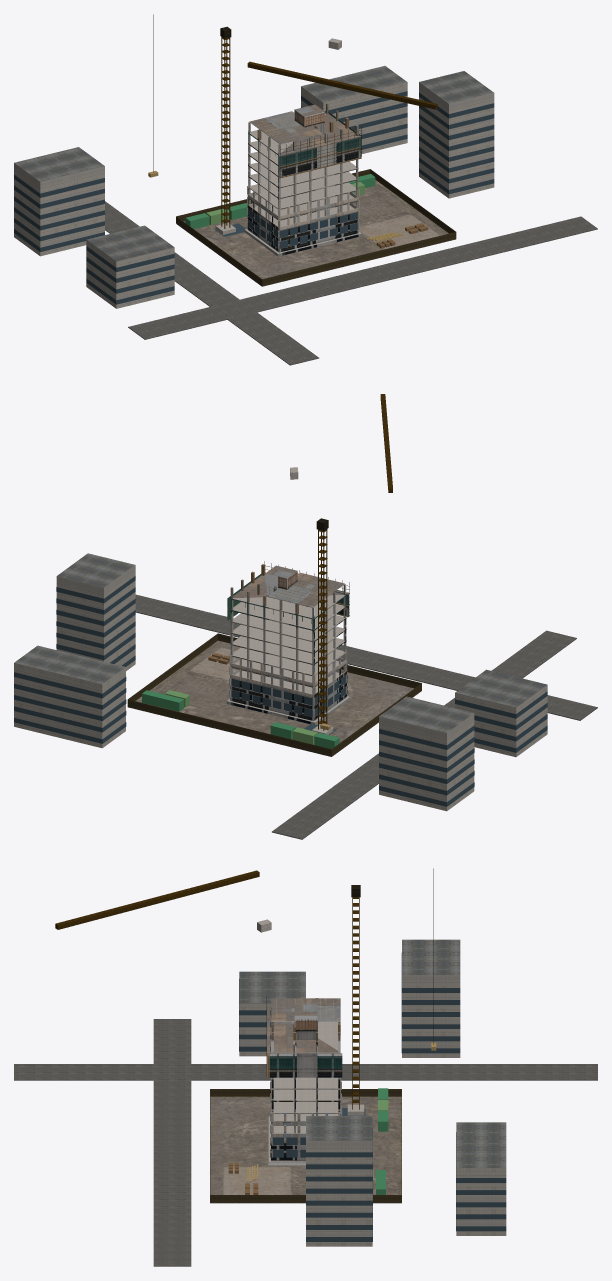
Rendered from tower-m6.glb.
3 renders of one model, top to bottom at view 1: azimuth 30°, elevation 25°; view 2: azimuth 150°, elevation 25°; view 3: azimuth 270°, elevation 25°, orthographic. The views are drawn at different scales.
Visible parts, largest first — view 1: Ground_NeighbourPBR, Ground_AsphaltPBR, Ground_GlassPBR, SitePad, Ground_FencePBR, Crane_CranePBR, F10_PlywoodPBR, Slab_8, Slab_4, Slab_3, Slab_5, F09_NetPBR (+13 smaller); view 2: Ground_NeighbourPBR, Ground_GlassPBR, Ground_AsphaltPBR, SitePad, Ground_FencePBR, Crane_CranePBR, F10_PlywoodPBR, Slab_8, Ground_ContainerPBR, Slab_4, Slab_5, Slab_7 (+10 smaller); view 3: Ground_NeighbourPBR, Ground_AsphaltPBR, SitePad, Ground_GlassPBR, Crane_CranePBR, Ground_FencePBR, Slab_8, F10_PlywoodPBR, GravelYard, F09_NetPBR, F08_NetPBR, Slab_4 (+4 smaller).
Boxes of the visible parts, x1,y1,x2,y2 form: Ground_NeighbourPBR: (14, 66, 494, 308); Ground_AsphaltPBR: (105, 201, 597, 365); Ground_GlassPBR: (14, 91, 494, 304); SitePad: (177, 180, 455, 286); Ground_FencePBR: (176, 169, 456, 285); Crane_CranePBR: (221, 37, 437, 228); F10_PlywoodPBR: (249, 111, 361, 156); Slab_8: (248, 113, 358, 155); Slab_4: (248, 171, 358, 199); Slab_3: (248, 182, 357, 209); Slab_5: (248, 161, 358, 188); F09_NetPBR: (278, 112, 361, 166); Ground_NeighbourPBR: (14, 553, 547, 811); Ground_GlassPBR: (14, 576, 547, 806); Ground_AsphaltPBR: (135, 594, 597, 839); SitePad: (128, 640, 421, 756); Ground_FencePBR: (127, 633, 421, 756); Crane_CranePBR: (318, 394, 392, 730); F10_PlywoodPBR: (251, 564, 349, 614); Slab_8: (230, 575, 346, 619); Ground_ContainerPBR: (142, 690, 339, 748); Slab_4: (230, 636, 346, 664); Slab_5: (230, 624, 346, 653); Slab_7: (230, 602, 346, 630); Ground_NeighbourPBR: (239, 939, 506, 1246); Ground_AsphaltPBR: (14, 1019, 597, 1266); SitePad: (210, 1096, 401, 1203); Ground_GlassPBR: (239, 953, 506, 1241); Crane_CranePBR: (55, 870, 359, 1109); Ground_FencePBR: (210, 1089, 401, 1202); Slab_8: (271, 1022, 340, 1053); F10_PlywoodPBR: (267, 998, 340, 1052); GravelYard: (222, 1165, 272, 1194); F09_NetPBR: (268, 1053, 342, 1065); F08_NetPBR: (268, 1065, 342, 1077); Slab_4: (271, 1089, 340, 1101).
Size of what is drawn, in the model's own units: 140 by 61 by 140.
24 materials, 23 textured.
